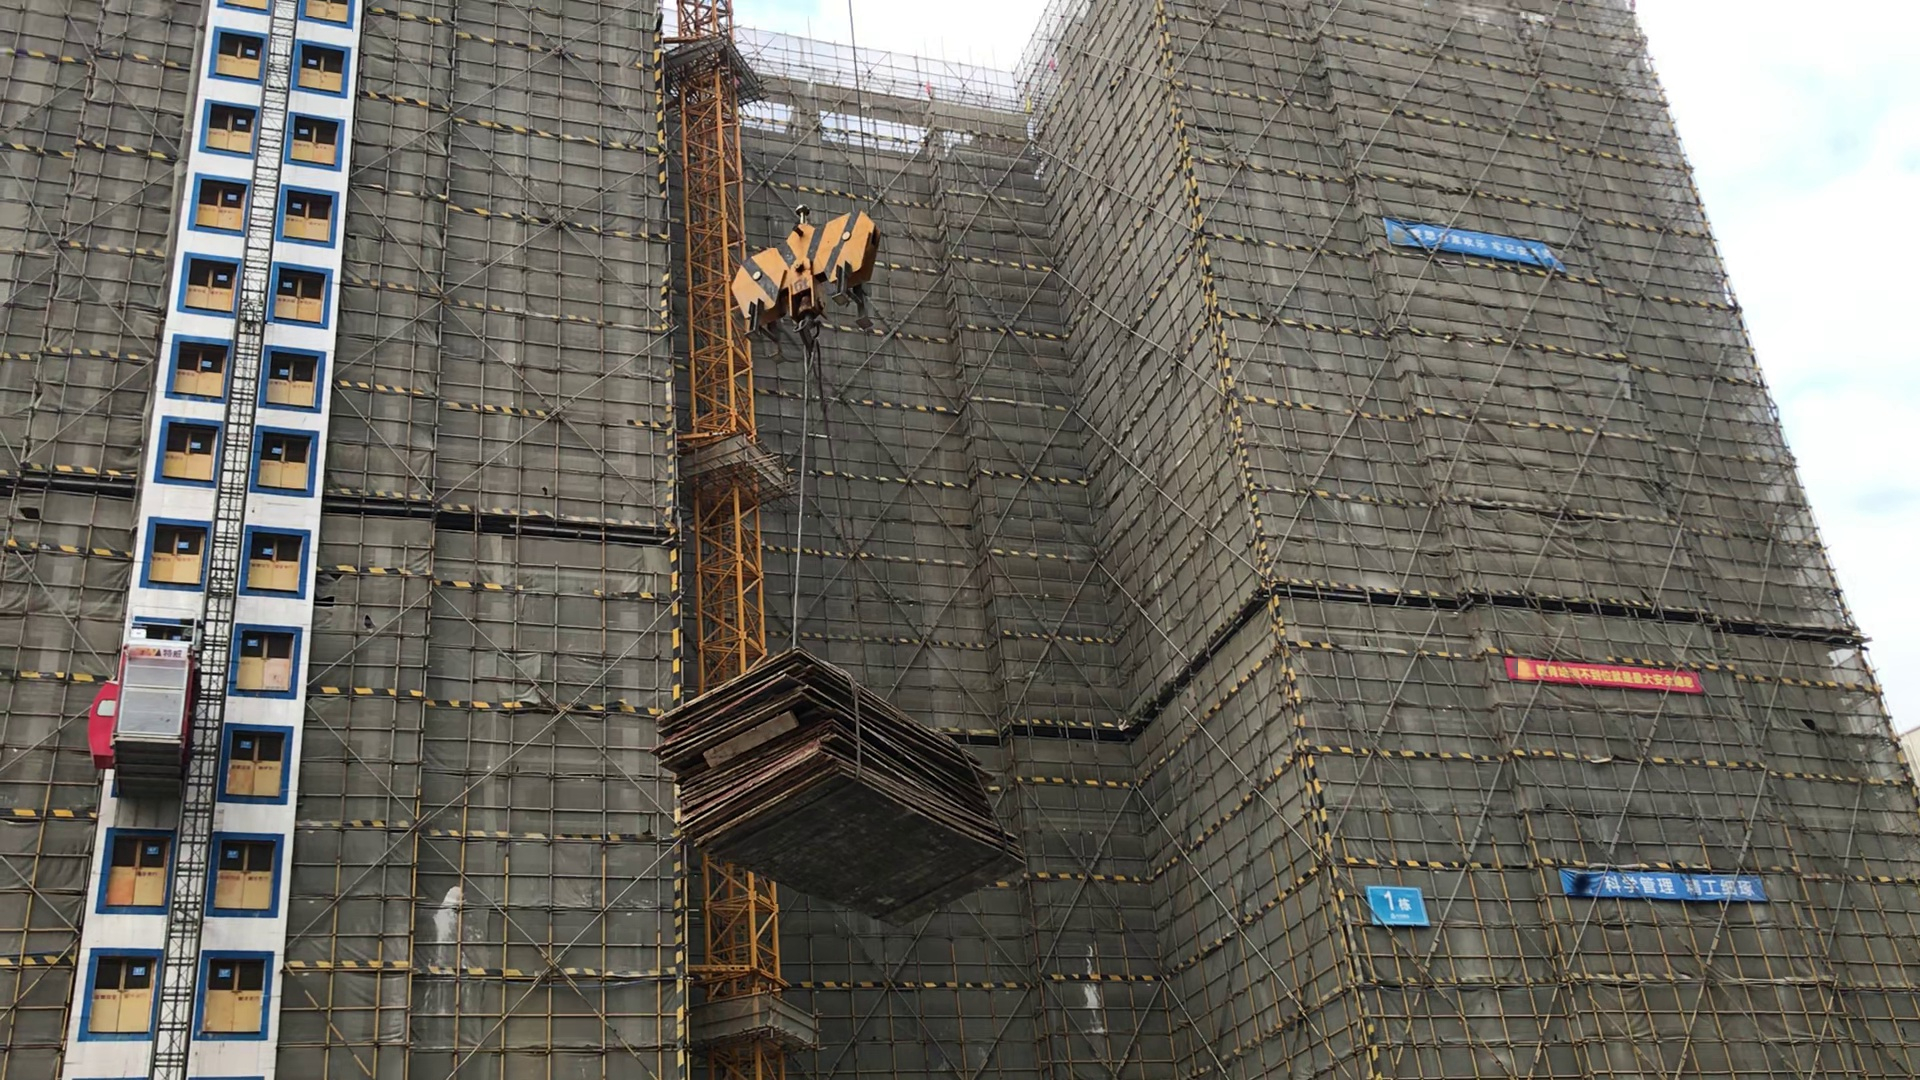board: (650, 645, 1025, 923)
hook: (727, 208, 878, 353)
slogan: (1378, 214, 1568, 277), (1507, 651, 1701, 696), (1555, 864, 1768, 901)
